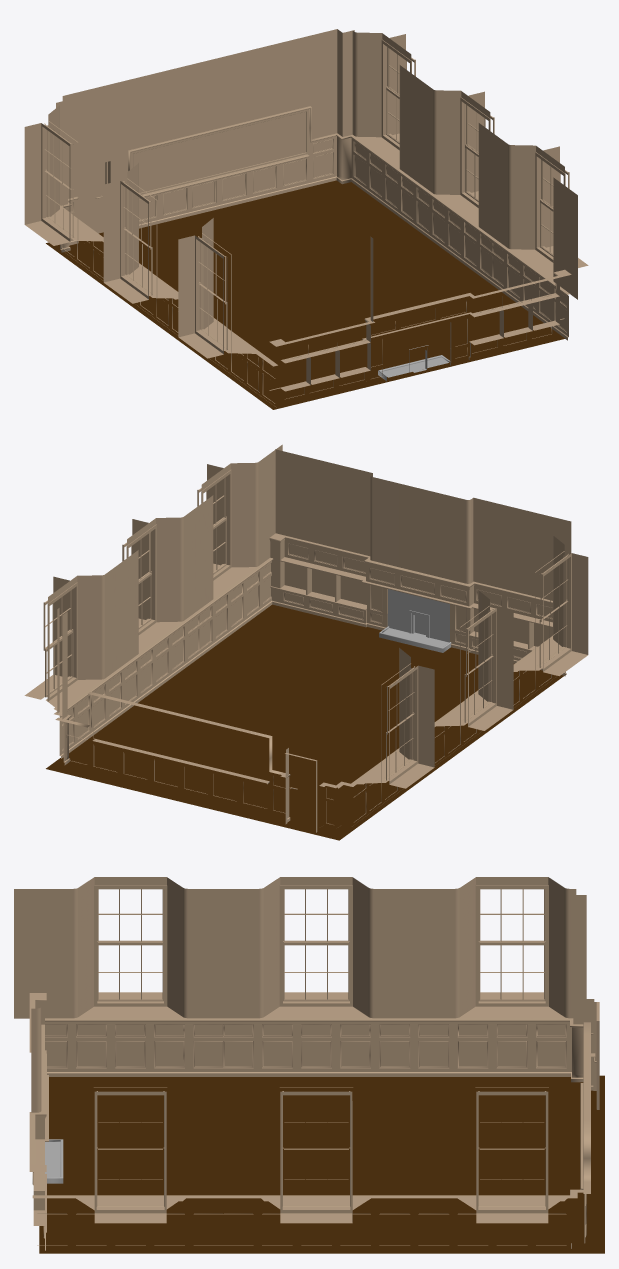
Rendered from room3.gltf.
The picture shows the model from 3 angles, top to bottom: view 1: azimuth 30°, elevation 25°; view 2: azimuth 150°, elevation 25°; view 3: azimuth 270°, elevation 25°; orthographic projection. The views are drawn at different scales.
Visible parts, largest first — view 1: Final Room; view 2: Final Room; view 3: Final Room.
Part boxes in pixels (x1,y1,x2,y2): Final Room: (24,29,588,409); Final Room: (24,444,588,840); Final Room: (14,877,604,1253).
Bounding box in the file's own units: 10.75 × 4.06 × 11.62.
4 materials, 4 textured.
